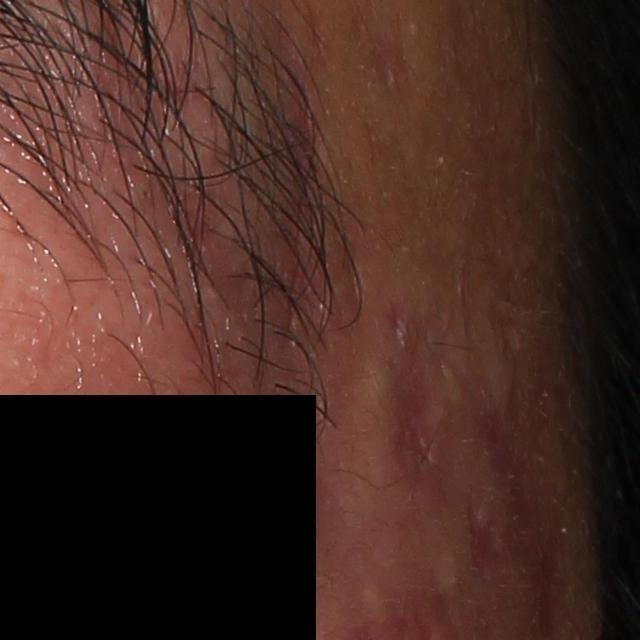atrophic_scar: (243, 145, 347, 564), (386, 304, 435, 481), (465, 505, 501, 576)
